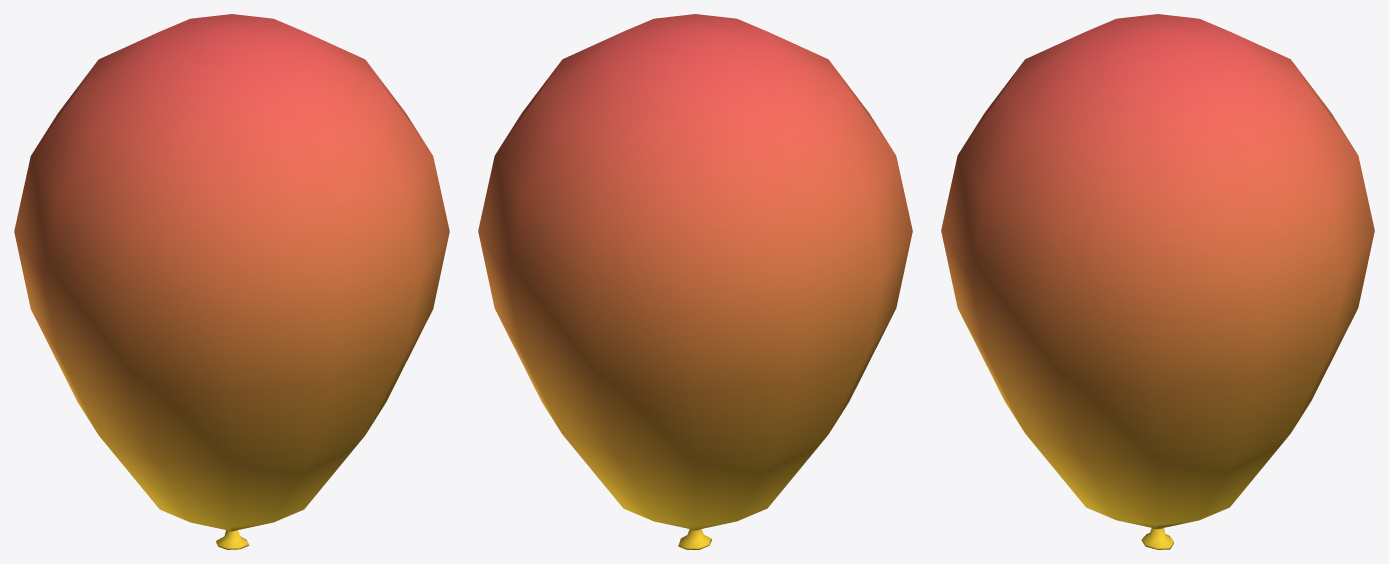
The model's file is SM_balloon_red_yellow.fbx.
The picture shows the model from 3 angles, left to right: view 1: azimuth 30°, elevation 25°; view 2: azimuth 150°, elevation 25°; view 3: azimuth 270°, elevation 25°; orthographic projection.
Parts seen in each view (by area): view 1: Cube.033; view 2: Cube.033; view 3: Cube.033.
Part boxes in pixels (left/top/right/bottom): Cube.033: left=14, top=14, right=449, bottom=549; Cube.033: left=478, top=14, right=912, bottom=549; Cube.033: left=941, top=14, right=1374, bottom=549.
Size of the model in its own units: 121 by 157 by 121.
